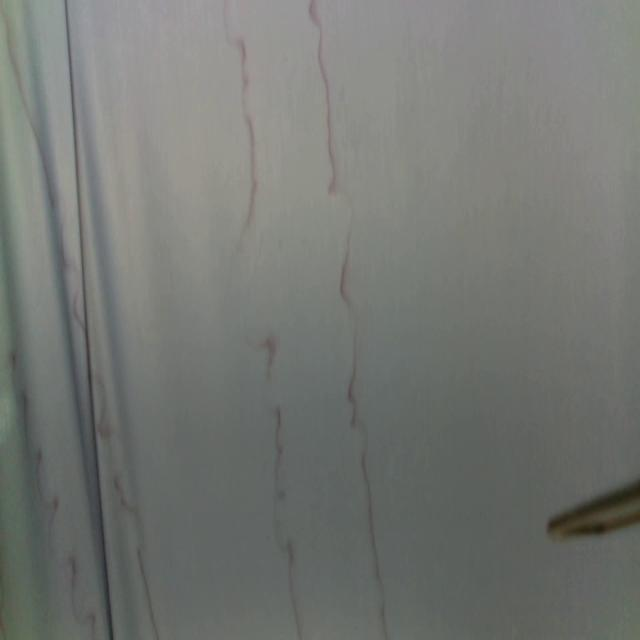crease: (66, 0, 114, 640)
